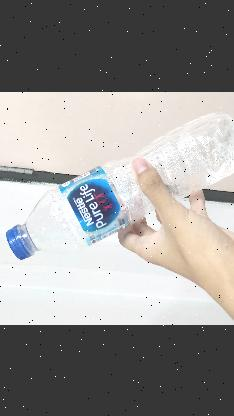Plastic Bottle: (0, 102, 234, 259)
